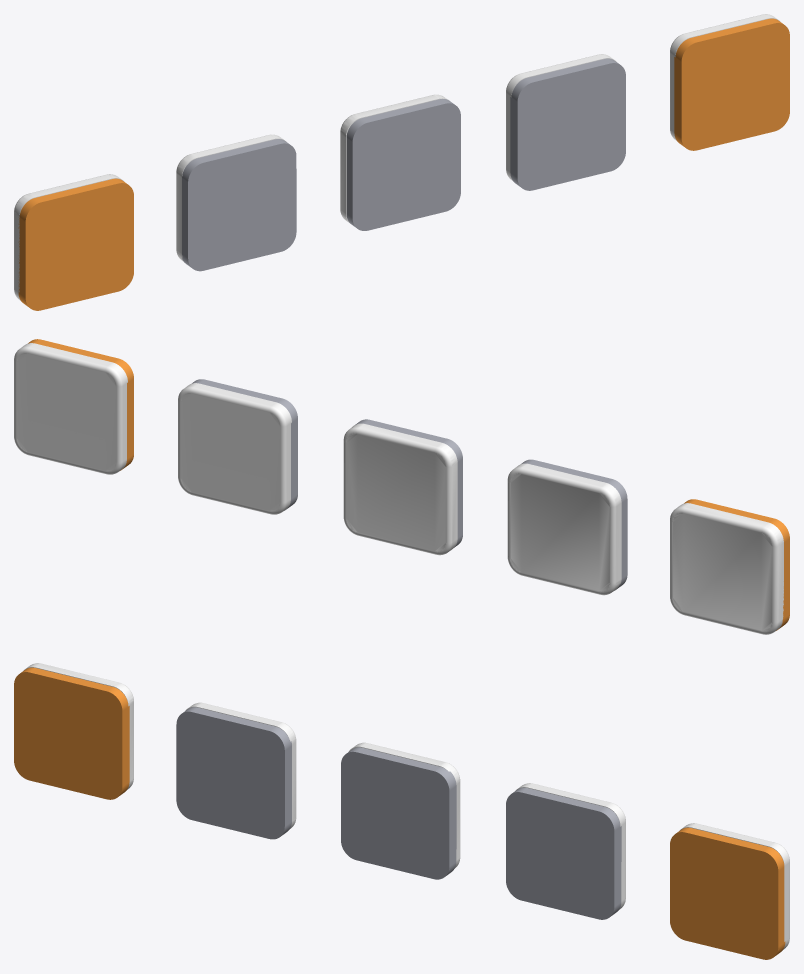
File: green.glb
3 renders of one model, top to bottom at view 1: azimuth 30°, elevation 25°; view 2: azimuth 150°, elevation 25°; view 3: azimuth 330°, elevation 25°, orthographic.
Visible parts, largest first — view 1: line_3; view 2: line_3; view 3: line_3.
Boxes of the visible parts, x1,y1,x2,y2 form: line_3: (14, 14, 789, 310); line_3: (14, 339, 789, 634); line_3: (14, 663, 789, 959).
Bounding box in the file's own units: 0.1481 × 0.0201 × 0.0045.
6 materials, 1 textured.
